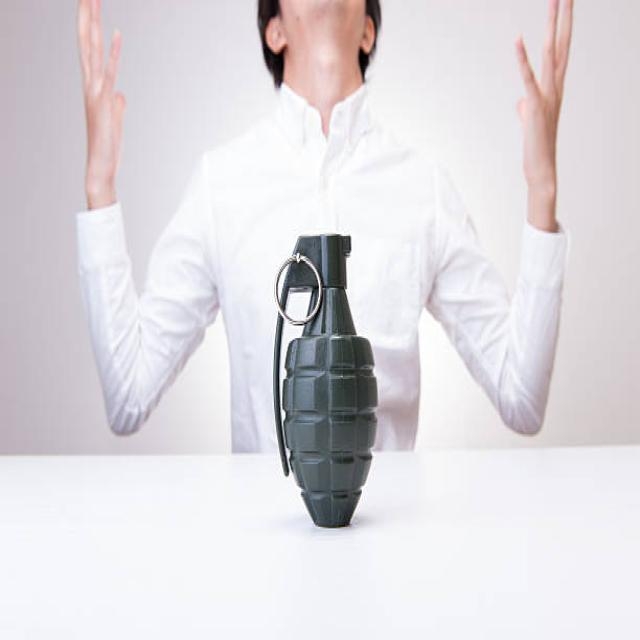grenade: (267, 220, 383, 537)
